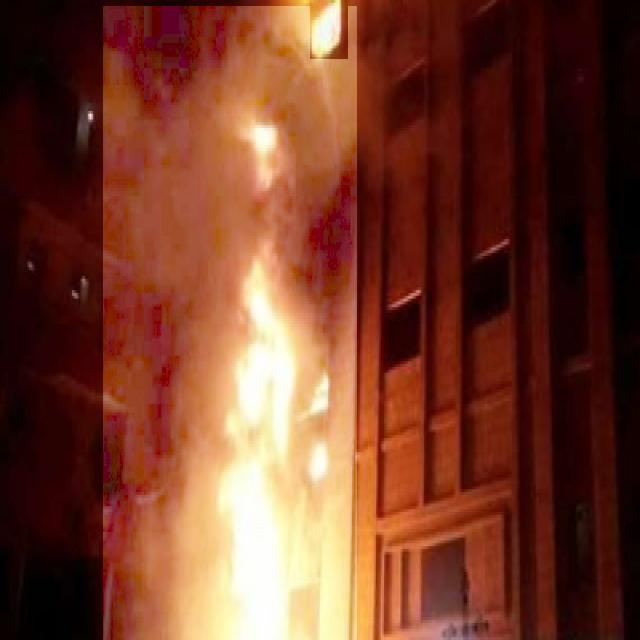Fire: (220, 270, 299, 640), (310, 0, 348, 59)
Smoke: (103, 6, 357, 640)
